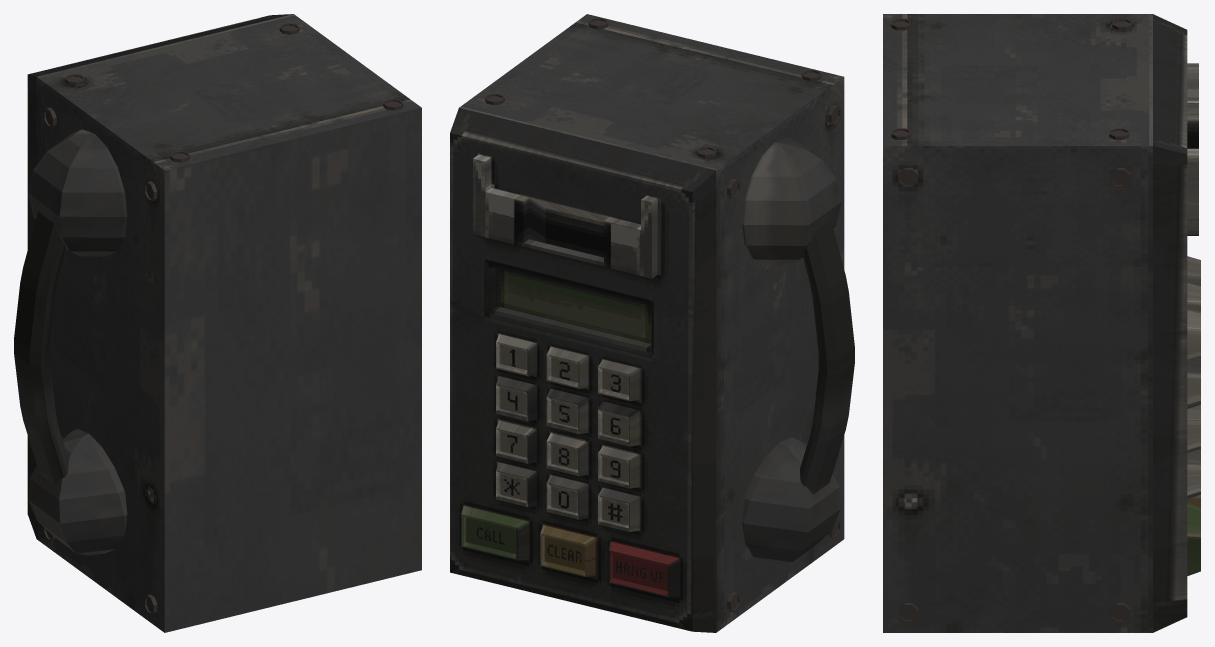
Rendered from psx_public_payphone.glb.
The picture shows the model from 3 angles, left to right: view 1: azimuth 30°, elevation 25°; view 2: azimuth 150°, elevation 25°; view 3: azimuth 270°, elevation 25°; orthographic projection. The views are drawn at different scales.
Visible parts, largest first — view 1: box_0, phone_1; view 2: box_0, phone_1; view 3: box_0.
Boxes of the visible parts, <box> form: box_0: <box>27,14,421,632</box>; phone_1: <box>14,129,127,555</box>; box_0: <box>450,14,844,632</box>; phone_1: <box>742,137,854,563</box>; box_0: <box>883,14,1200,632</box>.
Bounding box in the file's own units: 2.11 × 2.81 × 1.65.
Materials: 2 (1 with a texture image).
